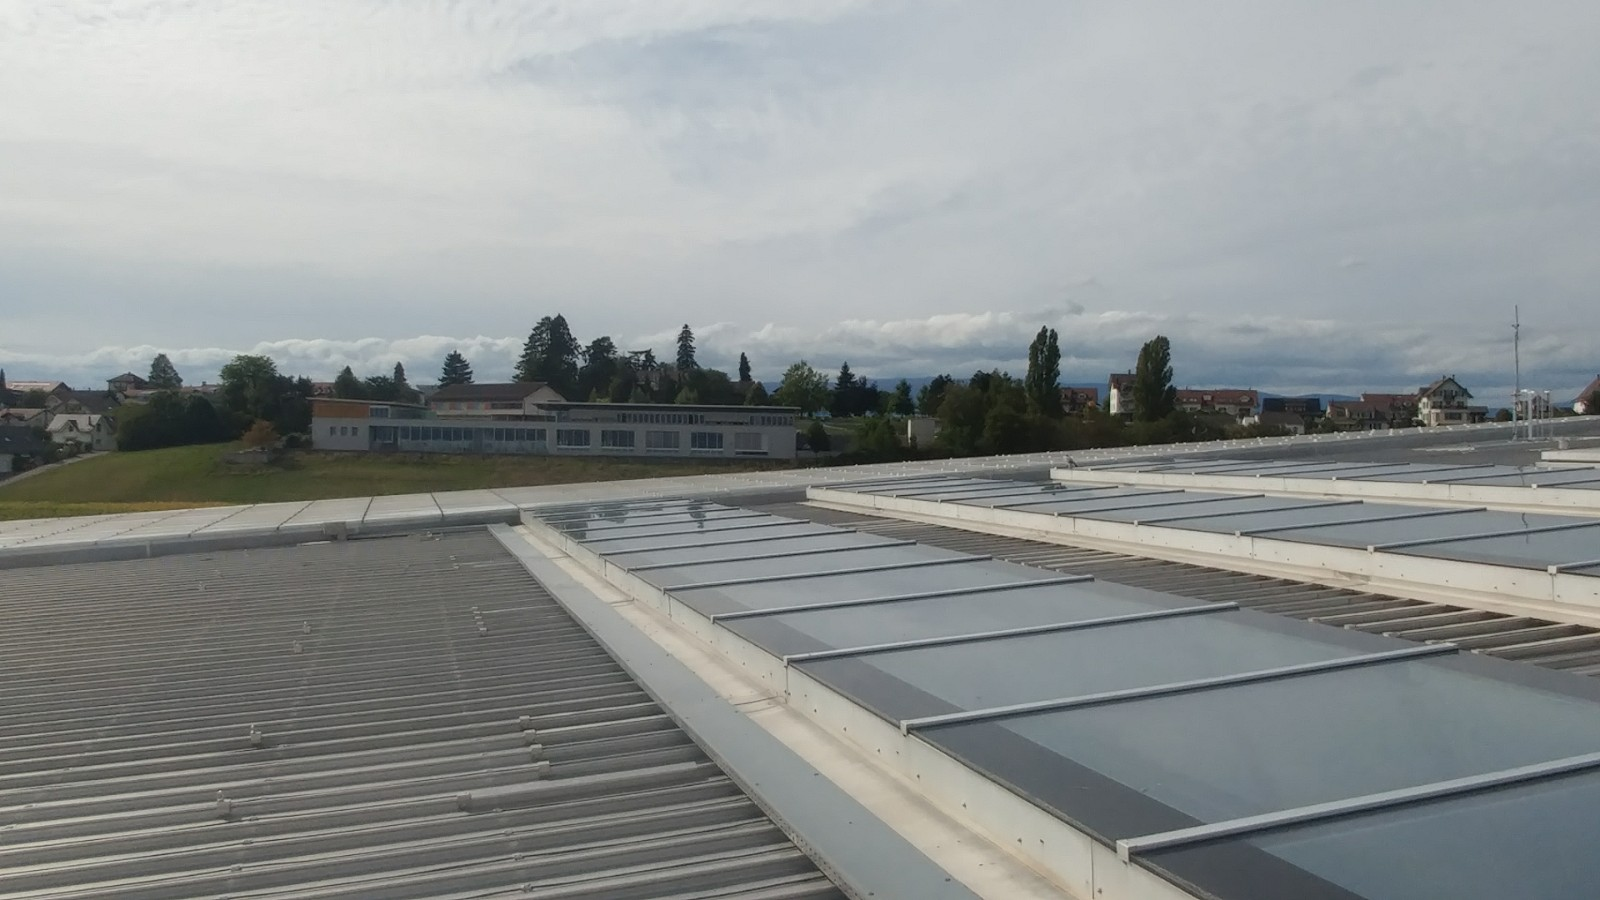Pigeon: (1062, 453, 1082, 468)
